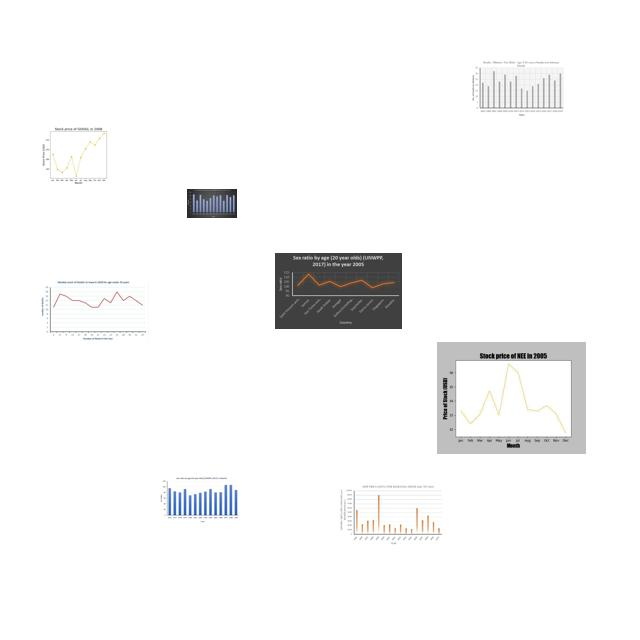Graph: (437, 342, 586, 454), (275, 253, 402, 329), (39, 279, 149, 343), (339, 484, 443, 545), (468, 59, 565, 117), (37, 124, 118, 185), (160, 475, 240, 523), (187, 189, 237, 218)
